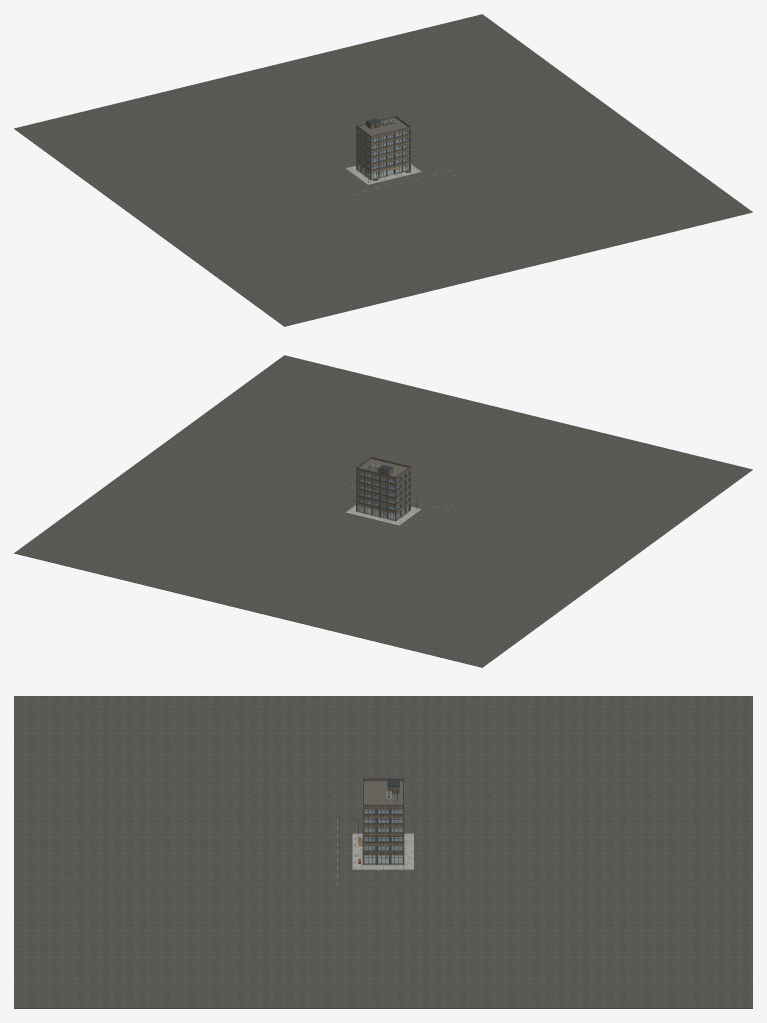
File: building-v4.glb
3 renders of one model, top to bottom at view 1: azimuth 30°, elevation 25°; view 2: azimuth 150°, elevation 25°; view 3: azimuth 270°, elevation 25°, orthographic. The views are drawn at different scales.
Parts seen in each view (by area): view 1: Street and pavement; view 2: Street and pavement; view 3: Street and pavement.
Boxes of the visible parts, box(x1,y1,x2,y2) form: Street and pavement: box(14, 14, 752, 326); Street and pavement: box(14, 355, 752, 667); Street and pavement: box(14, 696, 752, 1008).
Size of the model in its own units: 240 by 23.6 by 240.
Materials: 26 (2 with a texture image).
